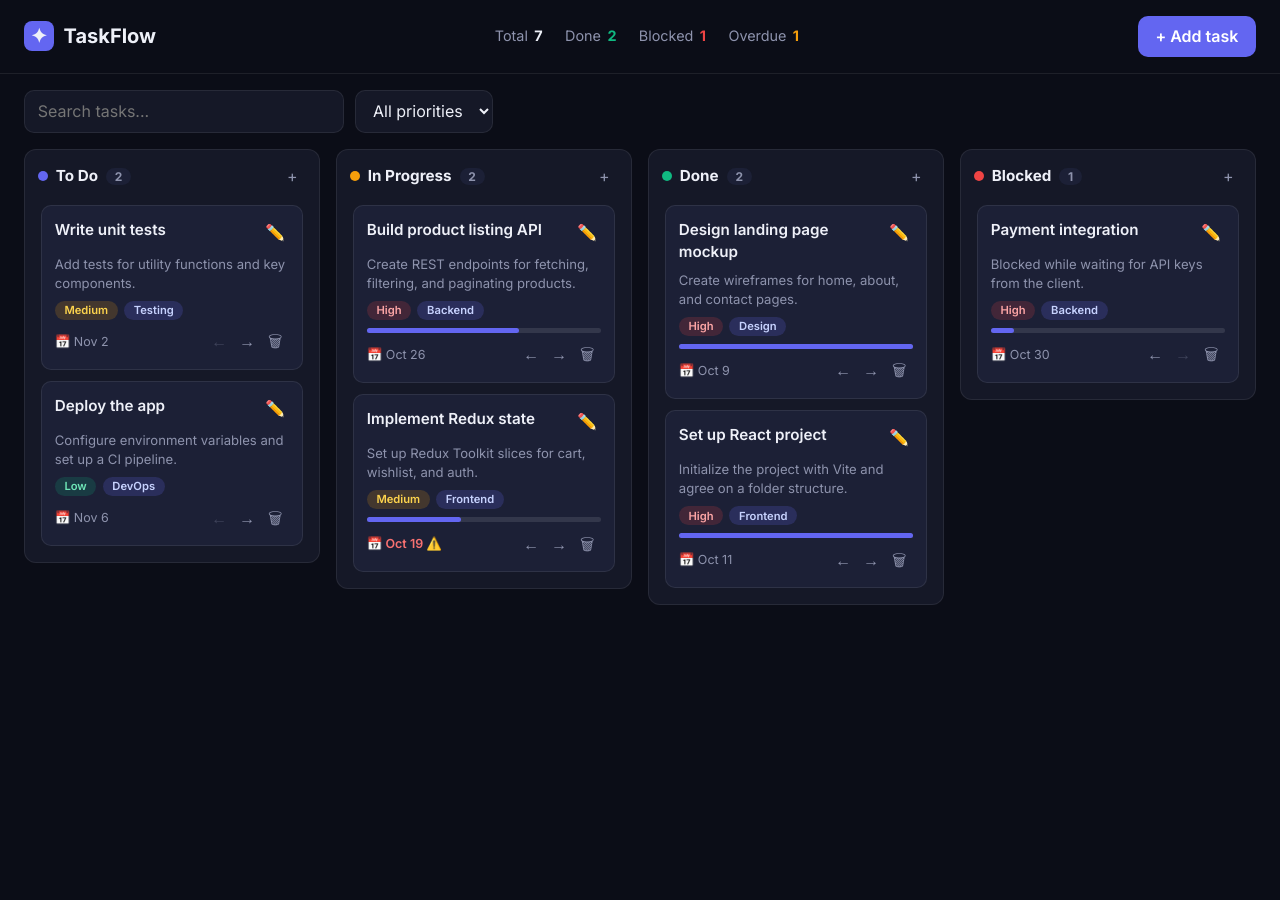
Scenario: TaskFlow board › requires a title
Step 1. Click the button "+ Add task" → (1197, 36), box [1138, 16, 1256, 57]
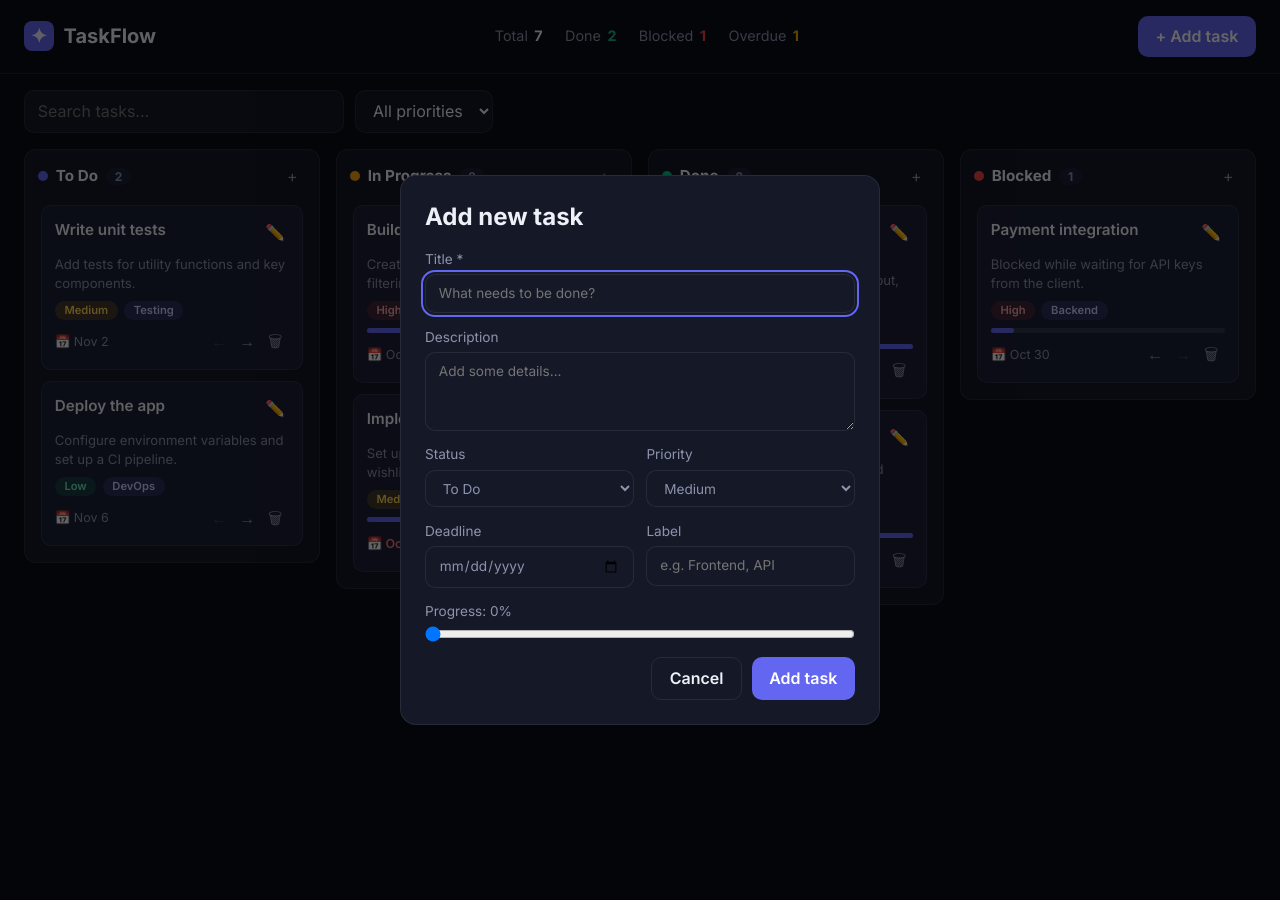
Step 2. Click the button "Add task" → (803, 678), box [752, 657, 855, 700]
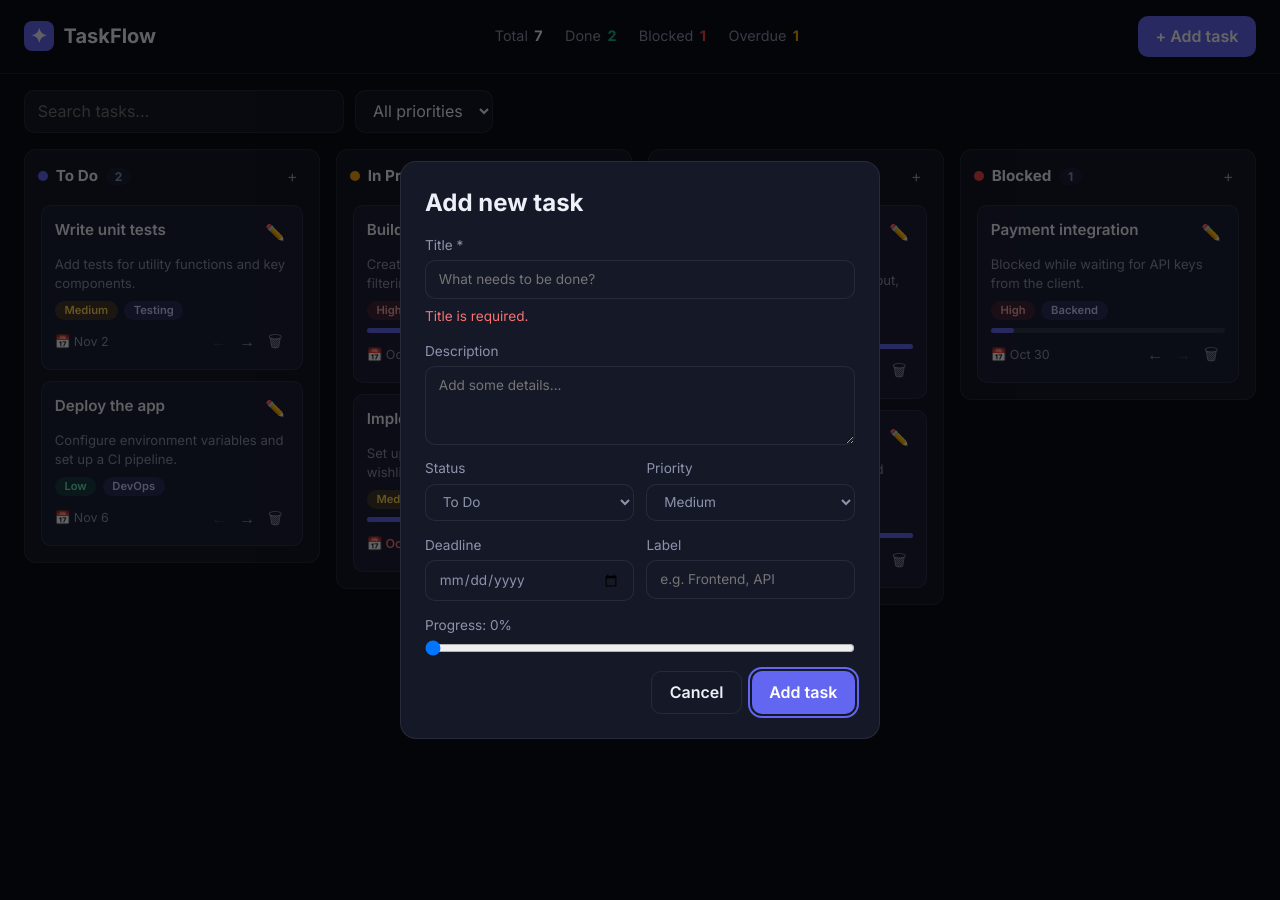
Check: the message reads "Title is required.", box [425, 308, 528, 324]
